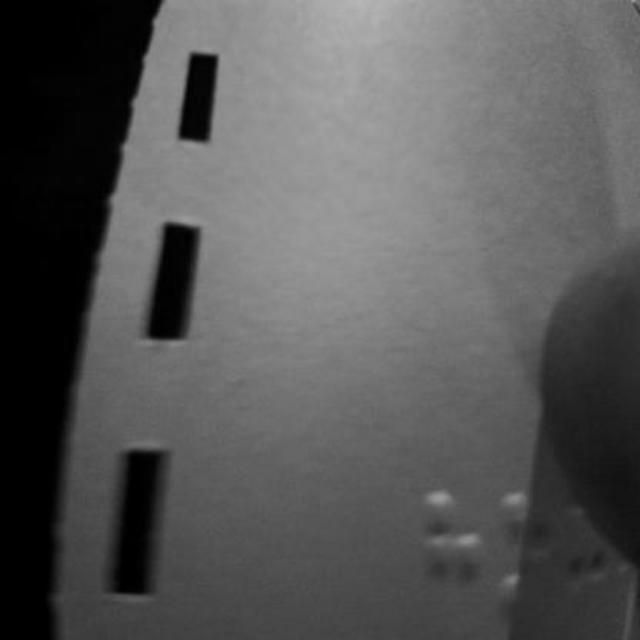braiile: (496, 480, 556, 614), (423, 481, 481, 614)
